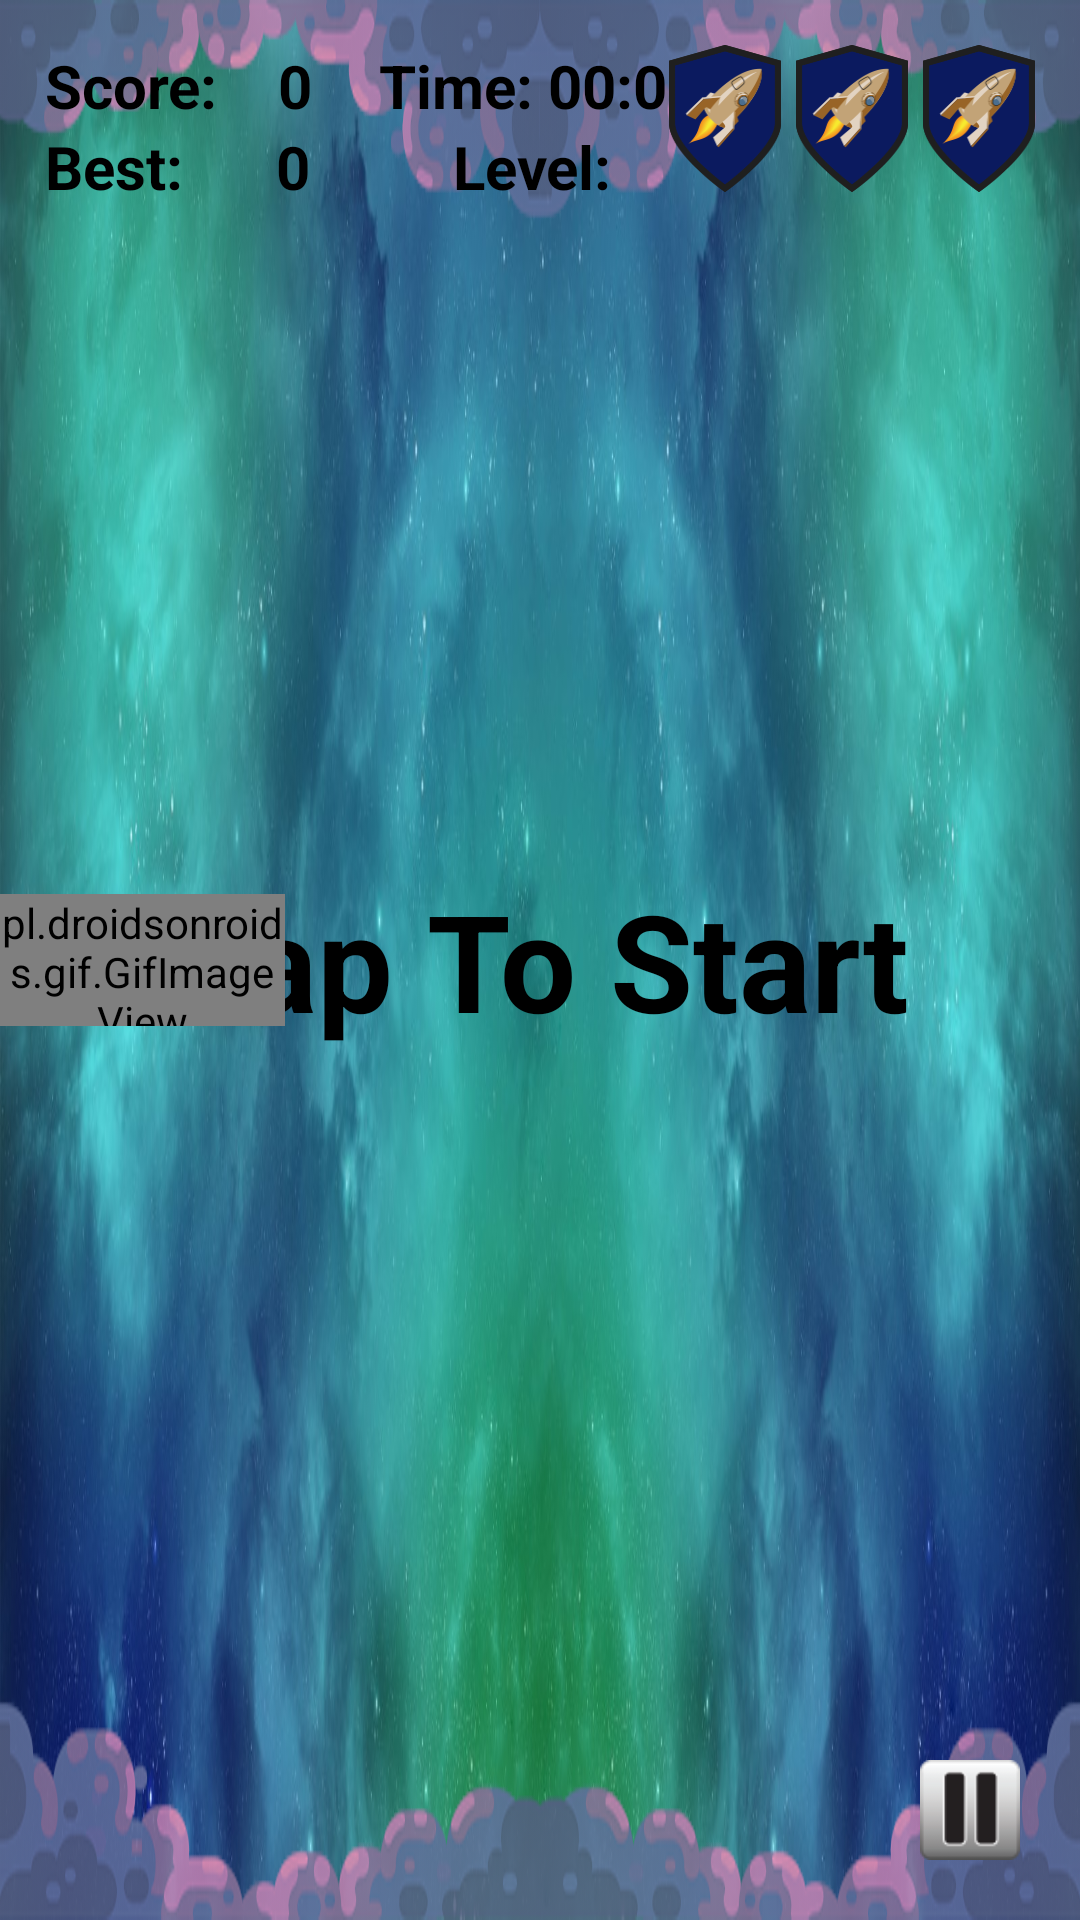

Point at icon controls on the screen. Image size 1080×1920, points as (x,y).
pausebtn: (970,1810)
